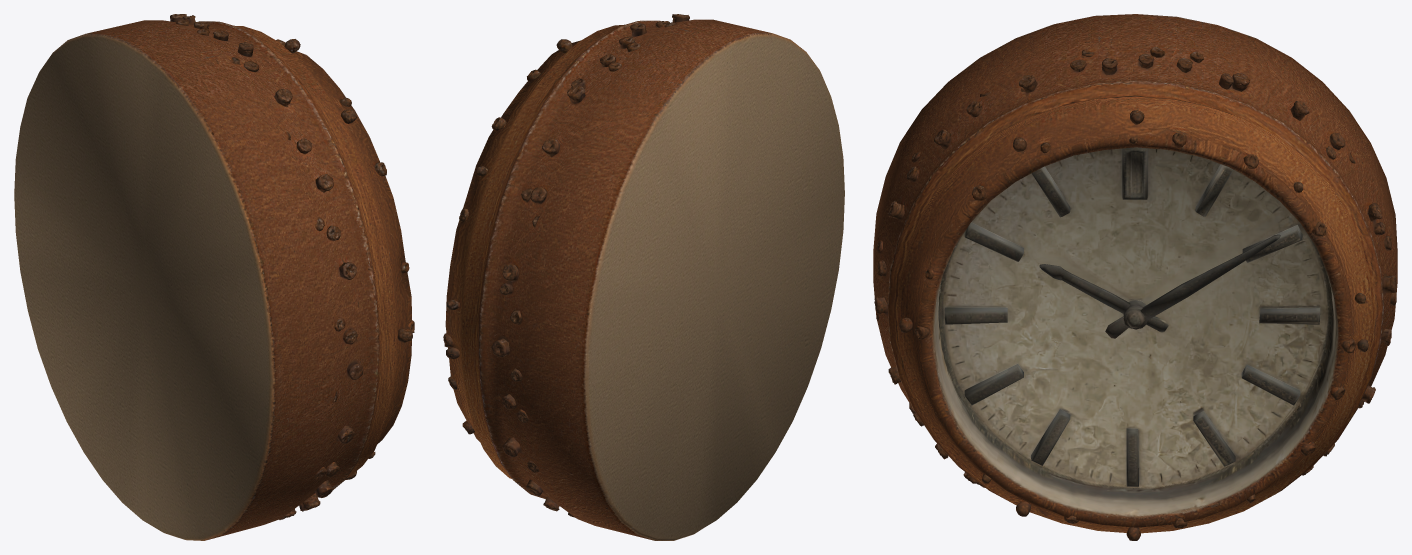
3 renders of one model, left to right at view 1: azimuth 30°, elevation 25°; view 2: azimuth 150°, elevation 25°; view 3: azimuth 270°, elevation 25°, orthographic.
Parts seen in each view (by area): view 1: tripo_node_4b5361da-58d1-4310-adb3-2693b5d60e1f; view 2: tripo_node_4b5361da-58d1-4310-adb3-2693b5d60e1f; view 3: tripo_node_4b5361da-58d1-4310-adb3-2693b5d60e1f.
Boxes of the visible parts, x1,y1,x2,y2 form: tripo_node_4b5361da-58d1-4310-adb3-2693b5d60e1f: (14, 14, 414, 540); tripo_node_4b5361da-58d1-4310-adb3-2693b5d60e1f: (443, 14, 844, 540); tripo_node_4b5361da-58d1-4310-adb3-2693b5d60e1f: (873, 14, 1397, 540).
Bounding box in the file's own units: 0.373 × 0.998 × 0.998.
1 material, 1 textured.
